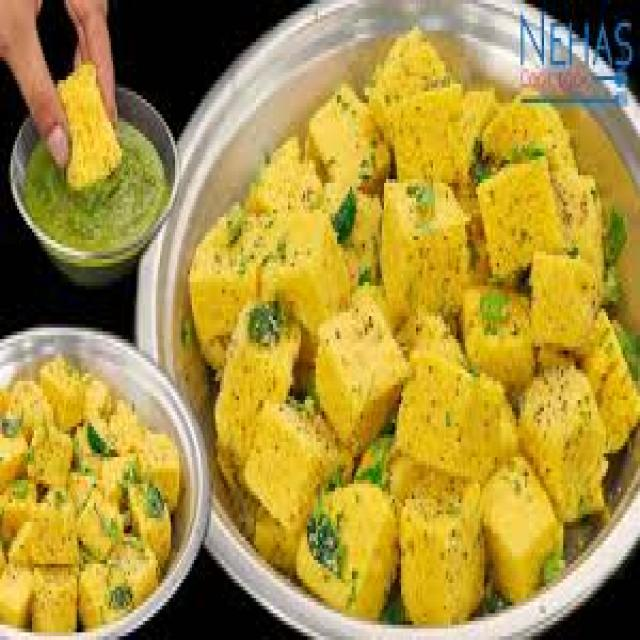DHOKLA: (191, 24, 638, 625), (0, 359, 189, 628), (57, 59, 127, 190)
